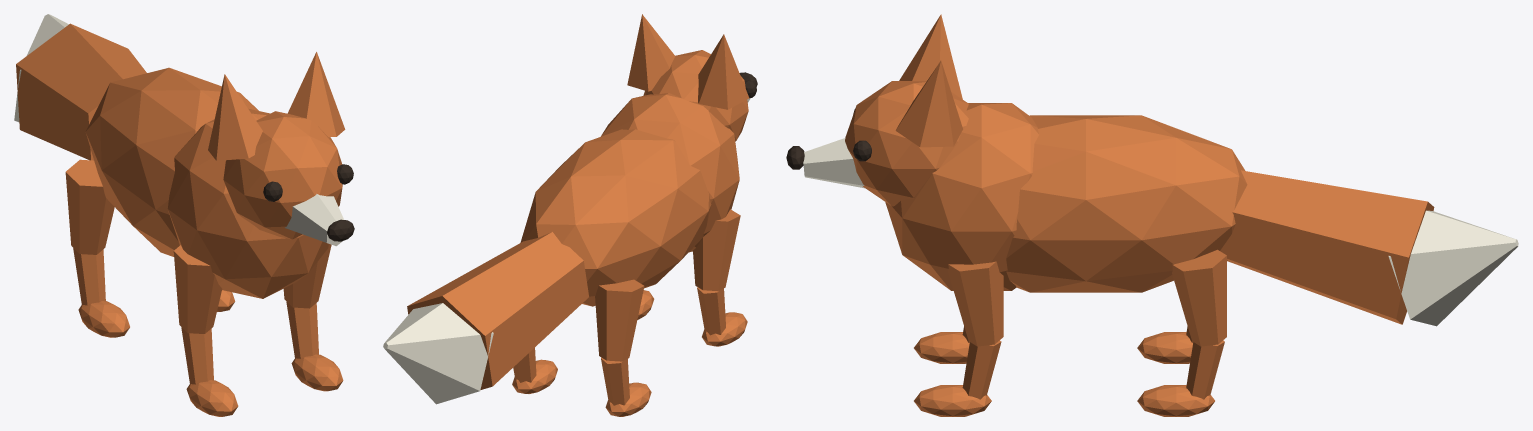
File: Fox.fbx
3 renders of one model, left to right at view 1: azimuth 30°, elevation 25°; view 2: azimuth 150°, elevation 25°; view 3: azimuth 270°, elevation 25°, orthographic. The views are drawn at different scales.
Visible parts, largest first — view 1: Body.003, Chest.003, Bushy tail, Head.003, Upper leg.013, Upper leg.012, Pointed ear, Pointed ear.001, Muzzle.001, Lower leg.014, Lower leg.013, Lower leg.012 (+7 smaller); view 2: Body.003, Bushy tail, Chest.003, White tail tip, Upper leg.013, Head.003, Upper leg.012, Pointed ear, Pointed ear.001, Lower leg.012, Lower leg.013, Foot.013 (+3 smaller); view 3: Body.003, Bushy tail, Chest.003, White tail tip, Head.003, Upper leg.015, Upper leg.014, Pointed ear.001, Pointed ear, Muzzle.001, Foot.015, Foot.014 (+4 smaller).
Boxes of the visible parts, x1,y1,x2,y2 form: Body.003: (85,67,258,256); Chest.003: (167,108,328,298); Bushy tail: (16,23,146,160); Head.003: (223,111,342,239); Upper leg.013: (65,159,114,254); Upper leg.012: (173,245,222,333); Pointed ear: (208,74,262,160); Pointed ear.001: (287,52,345,137); Muzzle.001: (285,194,343,246); Lower leg.014: (286,301,318,358); Lower leg.013: (73,248,105,305); Lower leg.012: (181,327,213,384); Body.003: (520,129,711,306); Bushy tail: (407,232,588,389); Chest.003: (601,93,739,252); White tail tip: (383,303,493,404); Upper leg.013: (595,279,644,361); Head.003: (643,50,748,141); Upper leg.012: (693,209,740,291); Pointed ear: (698,34,749,109); Pointed ear.001: (627,14,675,91); Lower leg.012: (697,287,725,335); Lower leg.013: (601,357,629,405); Foot.013: (605,382,651,416); Body.003: (1006,115,1247,292); Bushy tail: (1220,170,1434,324); Chest.003: (885,103,1038,290); White tail tip: (1388,210,1518,326); Head.003: (845,81,968,206); Upper leg.015: (1172,249,1226,346); Upper leg.014: (948,261,1003,346); Pointed ear.001: (895,60,962,147); Pointed ear: (899,14,962,99); Muzzle.001: (803,138,864,188); Foot.015: (1137,385,1214,416); Foot.014: (914,385,991,416).
Size of the model in its own units: 0.4829 by 0.99 by 1.87.
